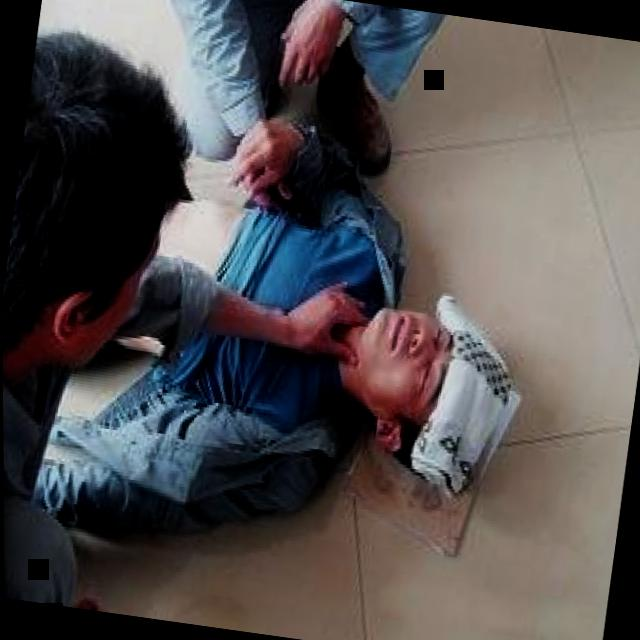Fall-Detected: (22, 27, 550, 600)
